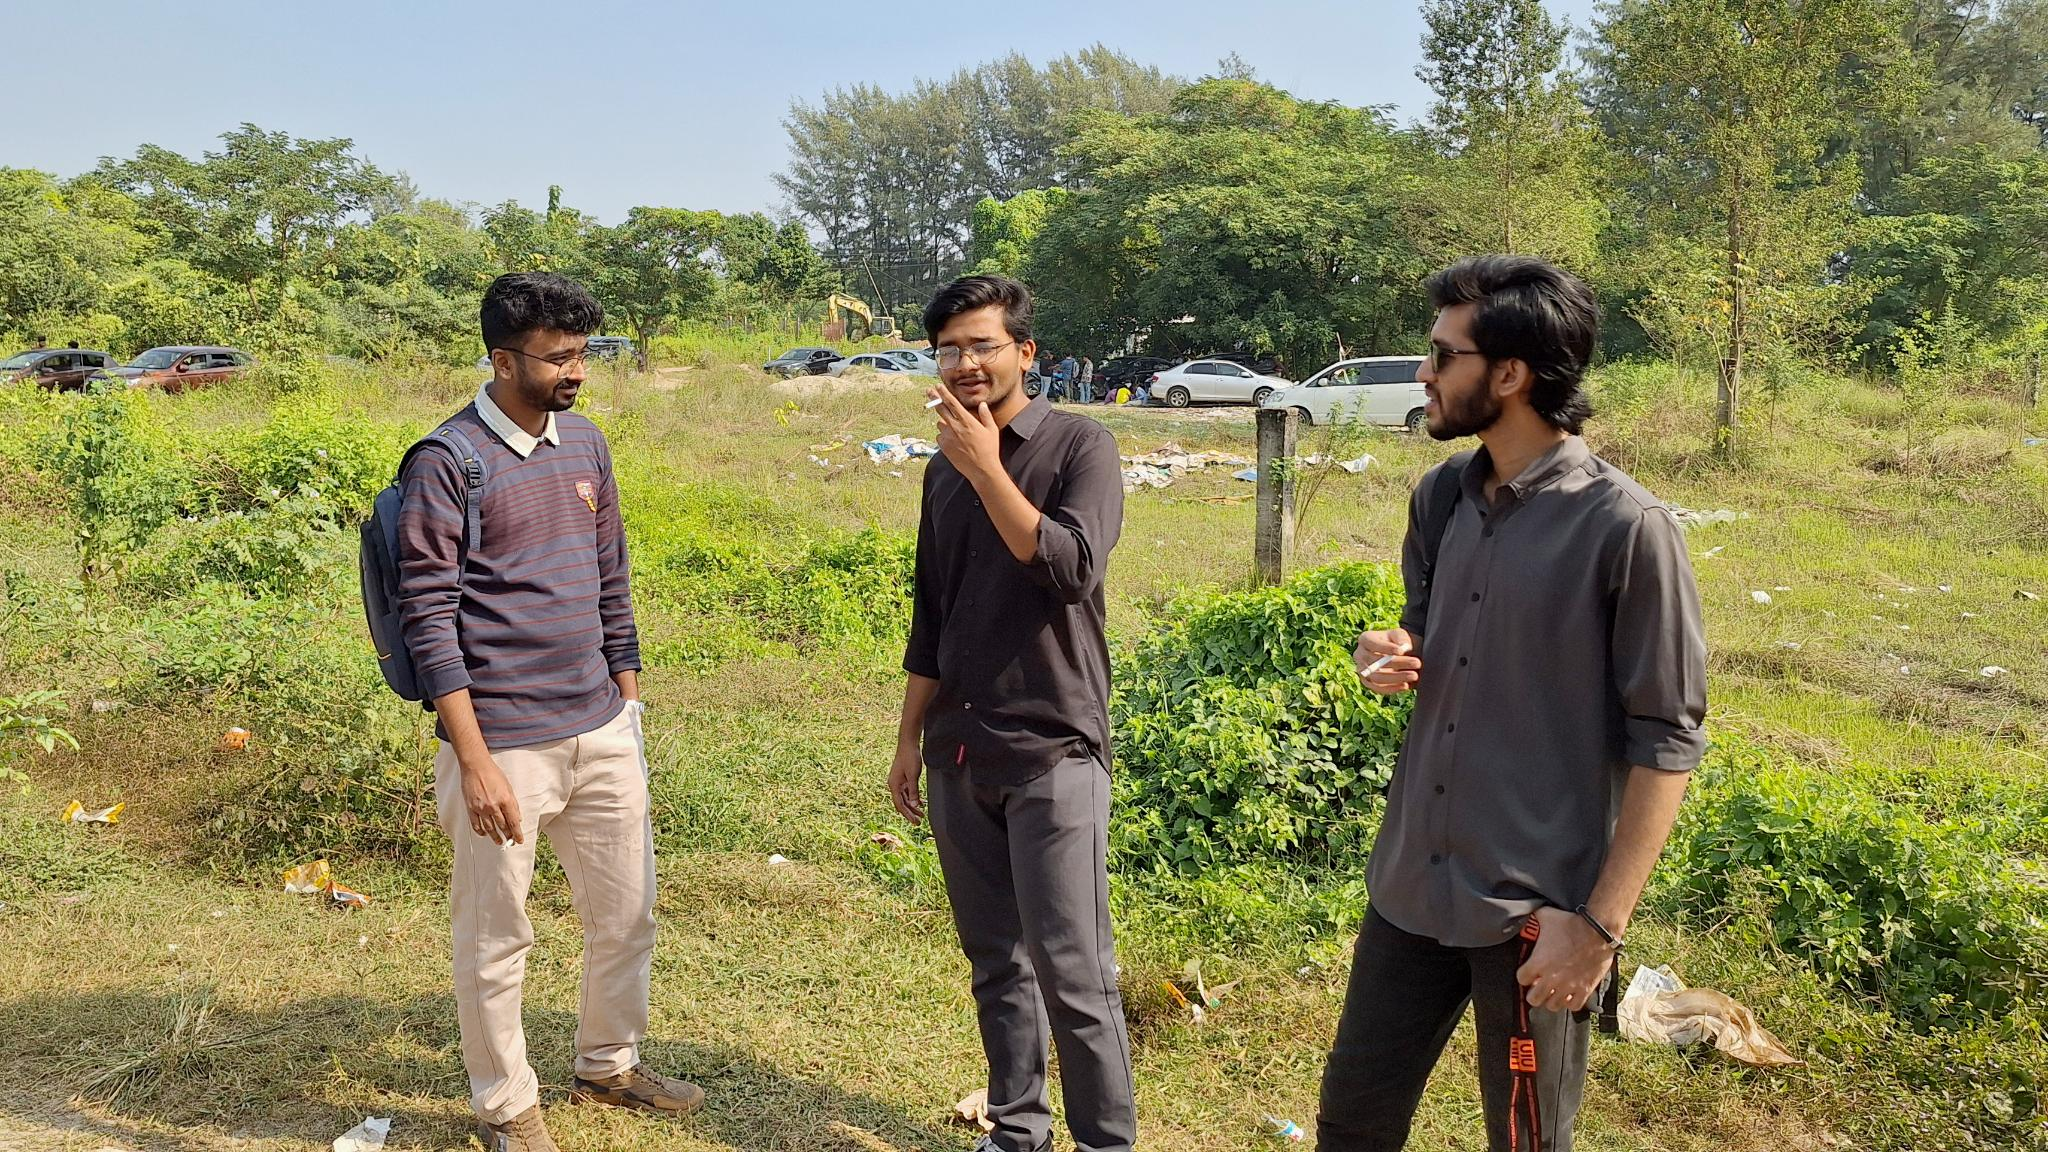cigarette: (1359, 641, 1411, 678), (920, 397, 945, 409), (499, 836, 518, 852)
smoker: (1312, 255, 1709, 1152), (360, 271, 706, 1152), (888, 274, 1137, 1152)
